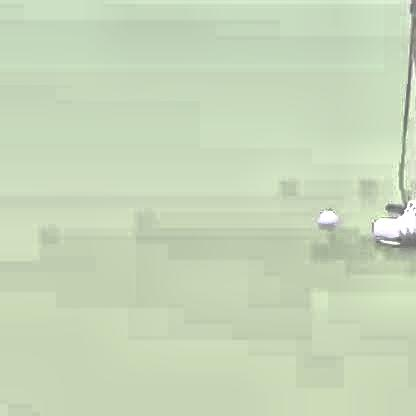golfball: (314, 207, 334, 227)
